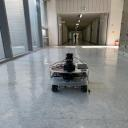cart: (50, 62, 89, 92)
